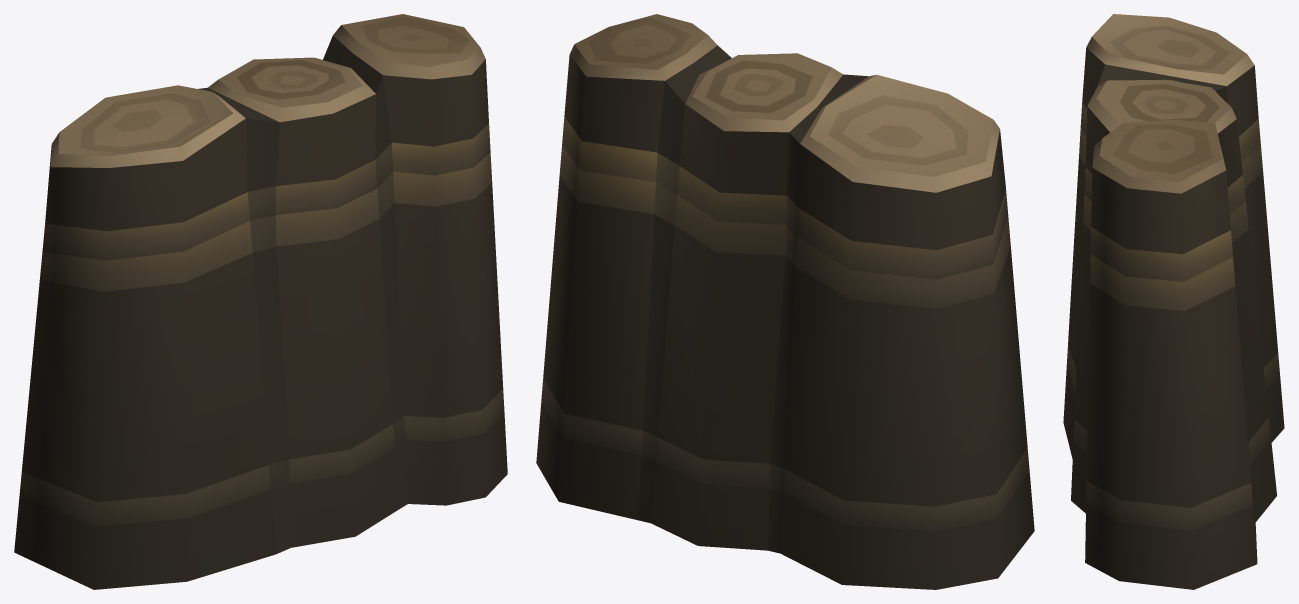
Rendered from orc_log_wall.fbx.
3 renders of one model, left to right at view 1: azimuth 30°, elevation 25°; view 2: azimuth 150°, elevation 25°; view 3: azimuth 270°, elevation 25°, orthographic. The views are drawn at different scales.
Visible parts, largest first — view 1: orc_log_wall; view 2: orc_log_wall; view 3: orc_log_wall.
Part boxes in pixels (left/top/right/bottom): orc_log_wall: left=14, top=14, right=507, bottom=589; orc_log_wall: left=536, top=14, right=1034, bottom=589; orc_log_wall: left=1063, top=14, right=1284, bottom=589.
Bounding box in the file's own units: 290 × 260 × 128.
